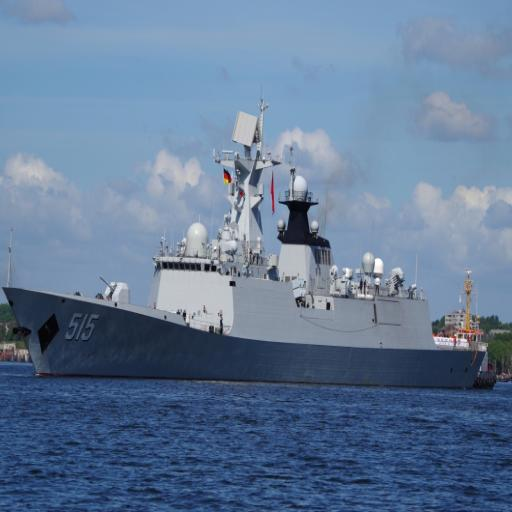Fragata: (6, 103, 493, 383)
